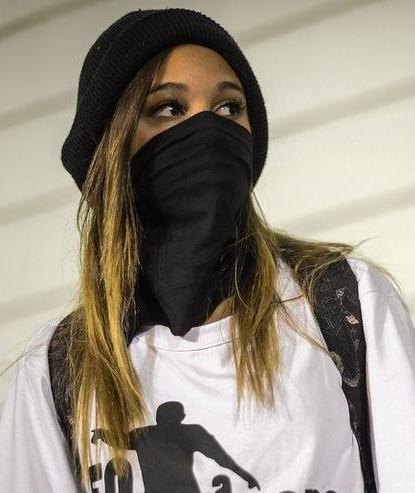OK: (98, 56, 258, 216)
